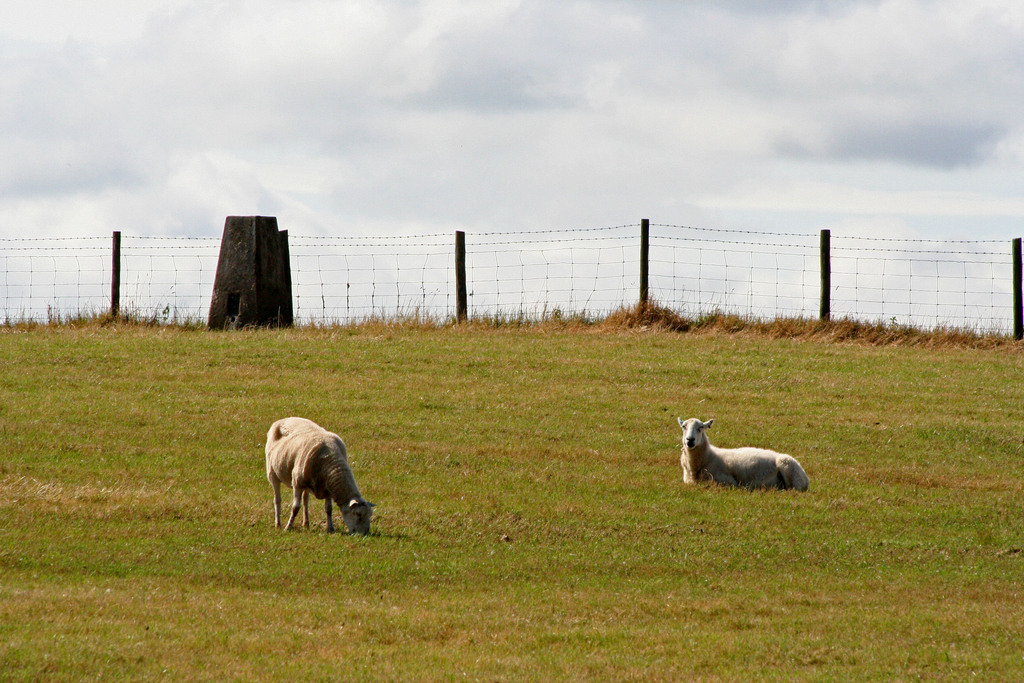sheep: (257, 413, 384, 543)
